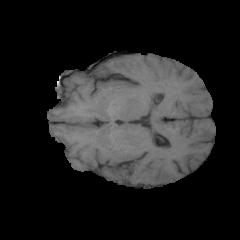glioma: (102, 155, 136, 183)
